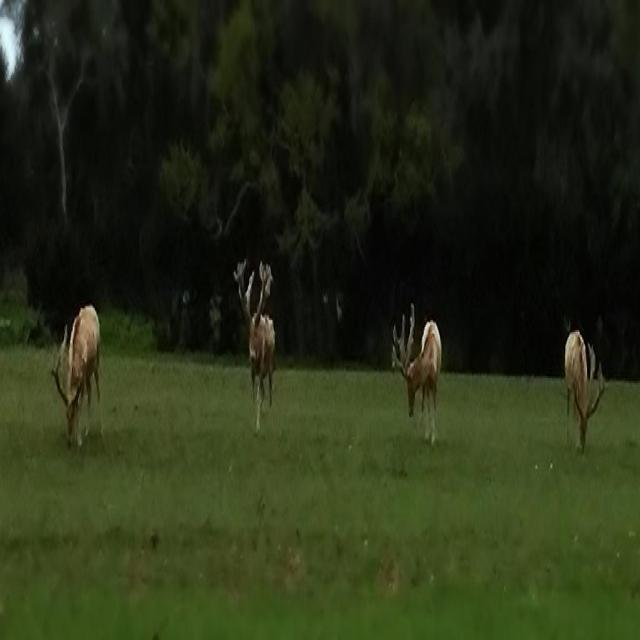Deer: (232, 260, 276, 430), (50, 301, 99, 453), (390, 304, 441, 442), (566, 329, 604, 444)
